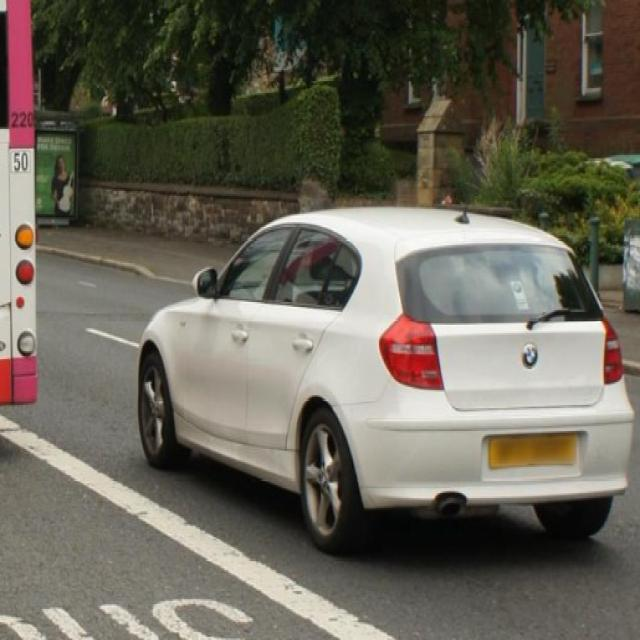bus: (0, 0, 43, 439)
car: (133, 200, 637, 552)
